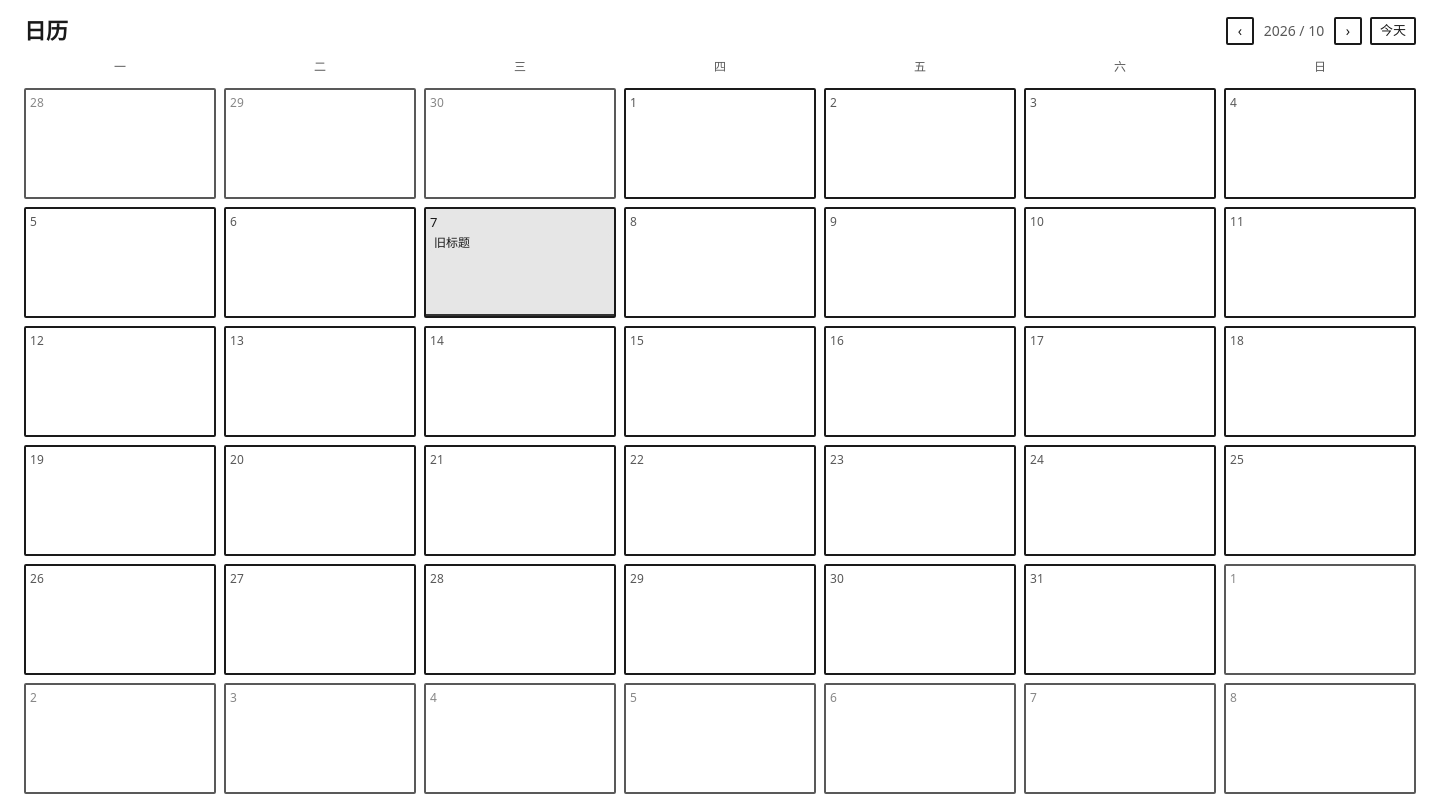
T97-01 日历页 · 新建 / 编辑 / 删除 › ⑤ 点已有日程开编辑（预填）→ 保存走 update；删除走 remove
Click the button with test id "calendar-chip-ev-seed" at (520, 243), box [430, 234, 610, 252]
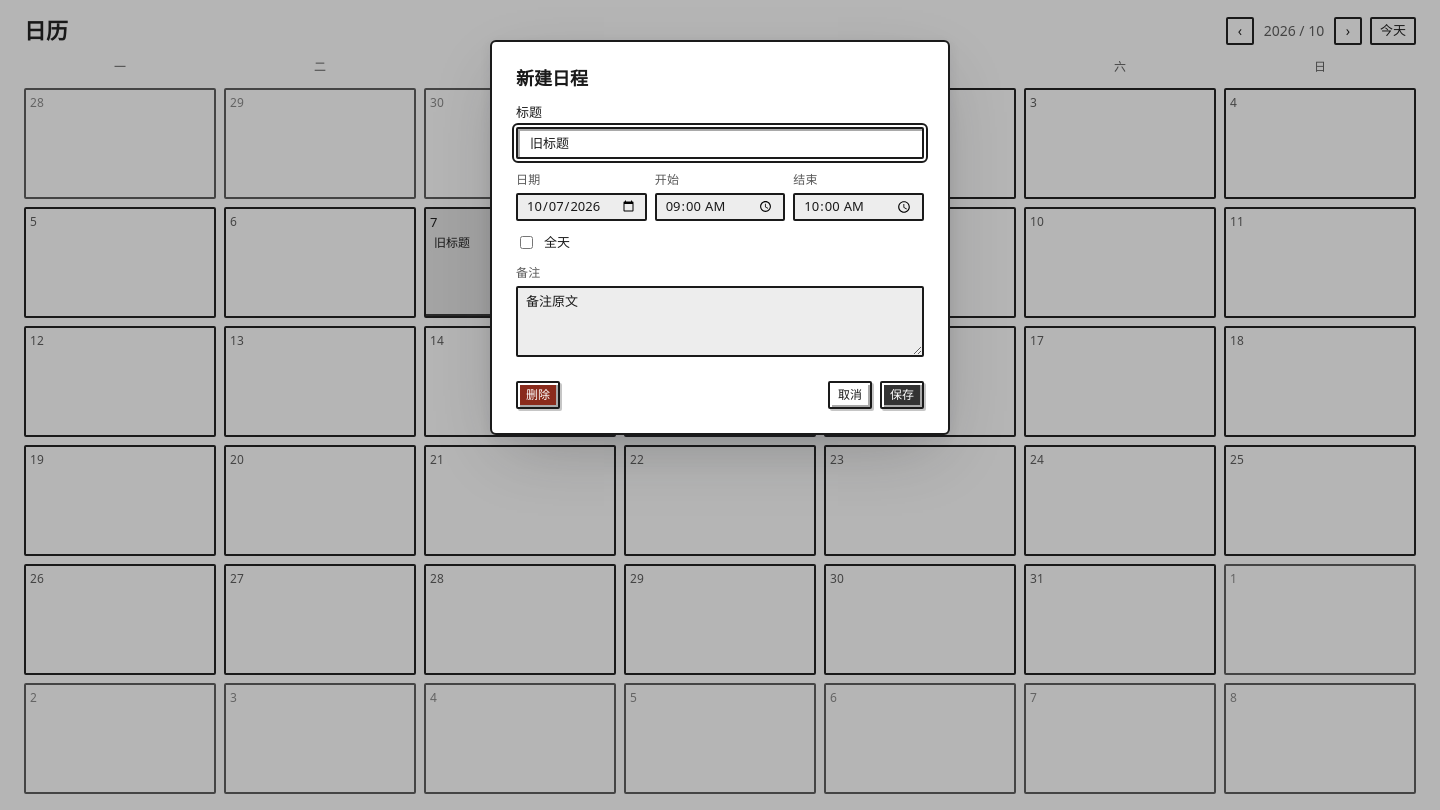
Expected: the field with test id "calendar-event-title" holds "旧标题"
Expected: the text box with test id "calendar-event-note" holds "备注原文", [516, 286, 924, 357]
Replace the text in the field with test id "calendar-event-title" with "新标题" at (720, 143), box [516, 127, 924, 159]
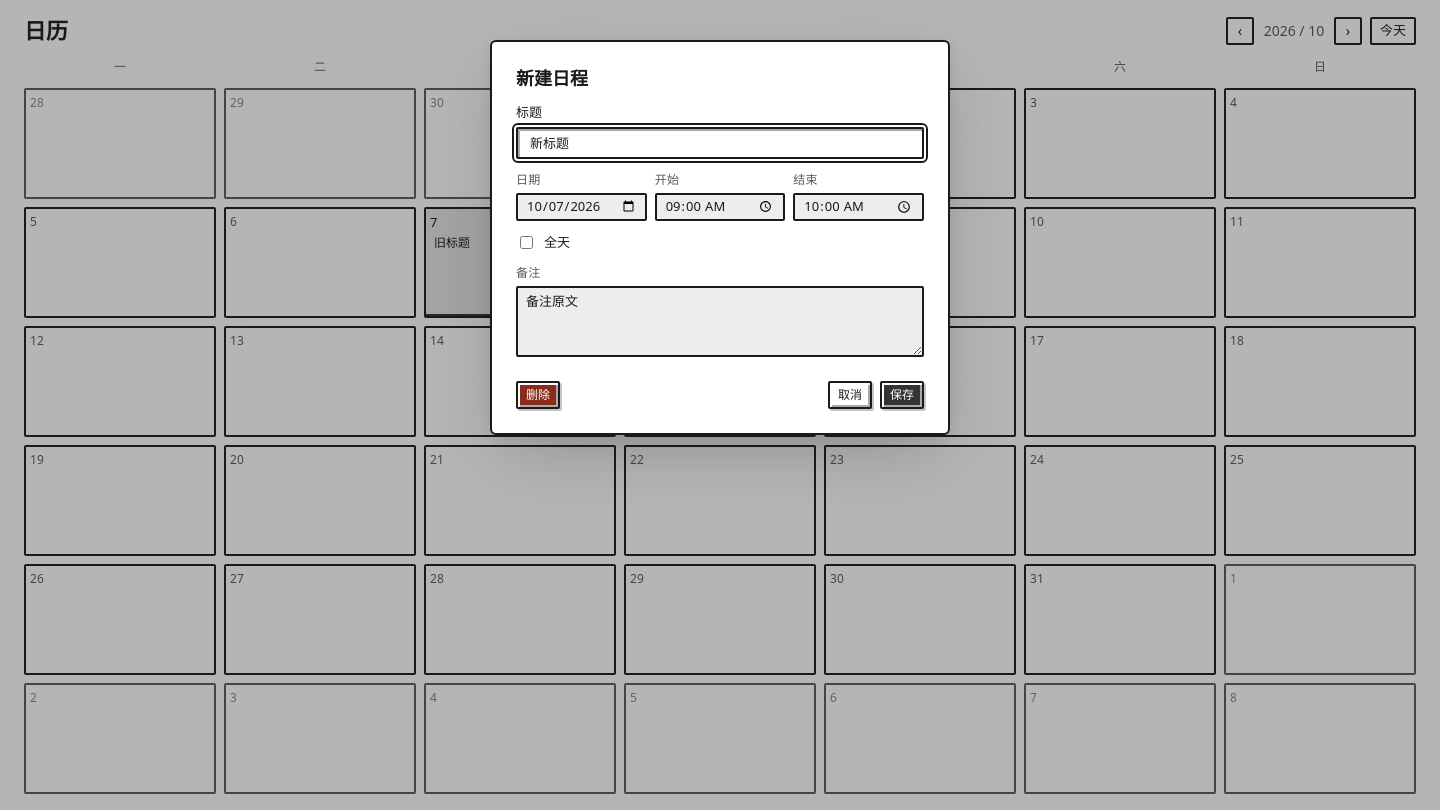
Click the button with test id "calendar-event-save" at (902, 395), box [880, 381, 924, 409]
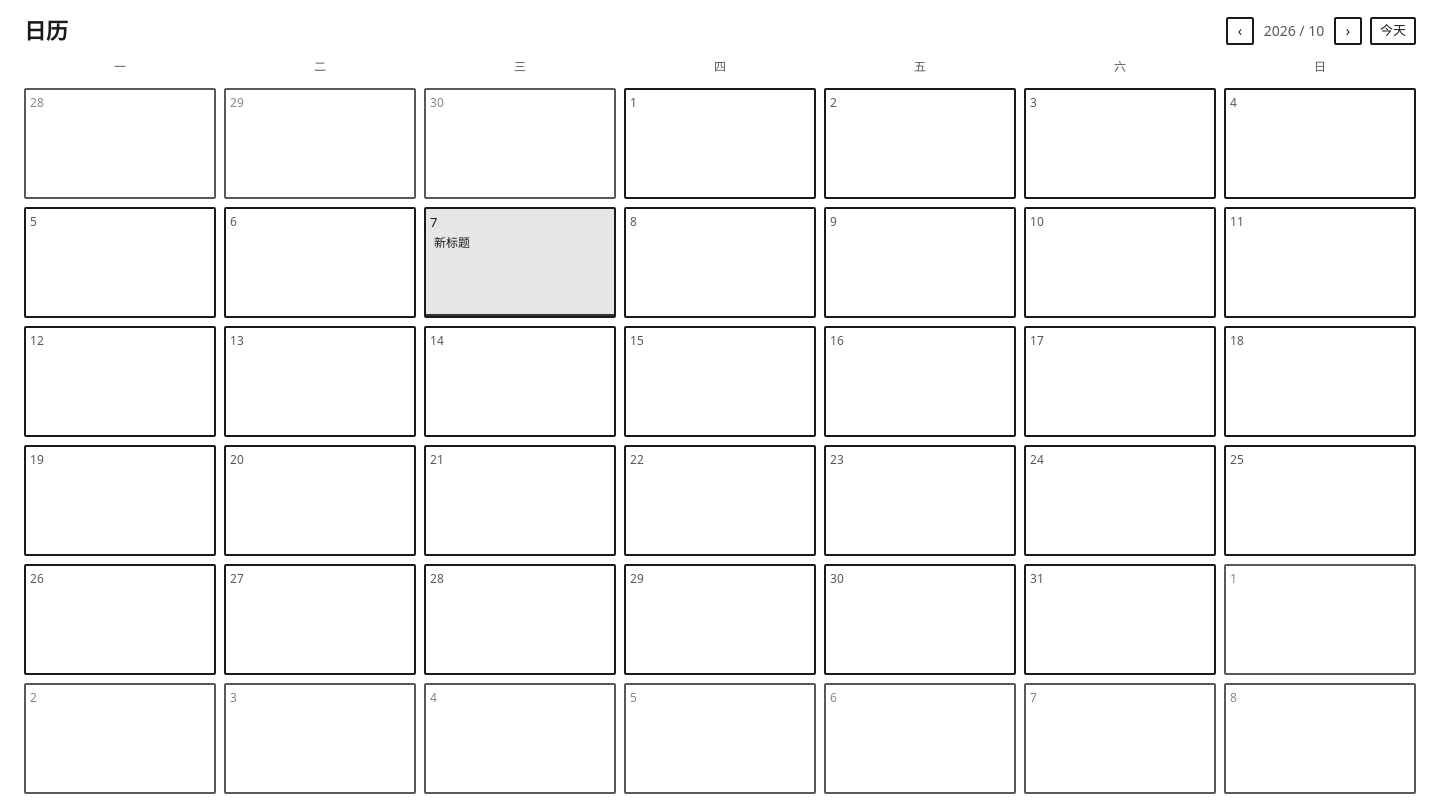
Expected: the button with test id "calendar-chip-ev-seed" reads "新标题"
#  再开 → 删除
Click the button with test id "calendar-chip-ev-seed" at (520, 243), box [430, 234, 610, 252]
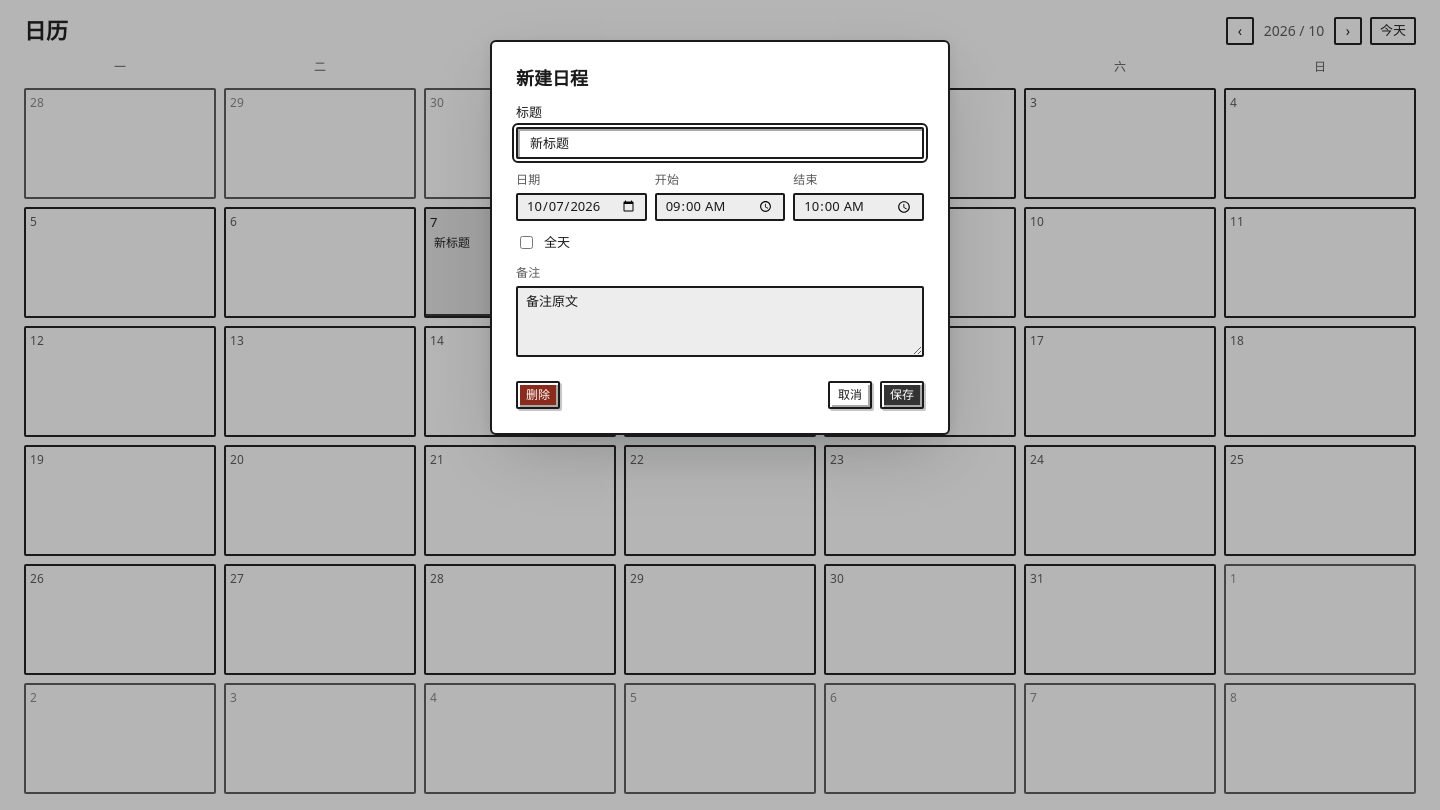
Expected: the field with test id "calendar-event-title" is shown, [516, 127, 924, 159]
Click the button with test id "calendar-event-delete" at (538, 395), box [516, 381, 560, 409]
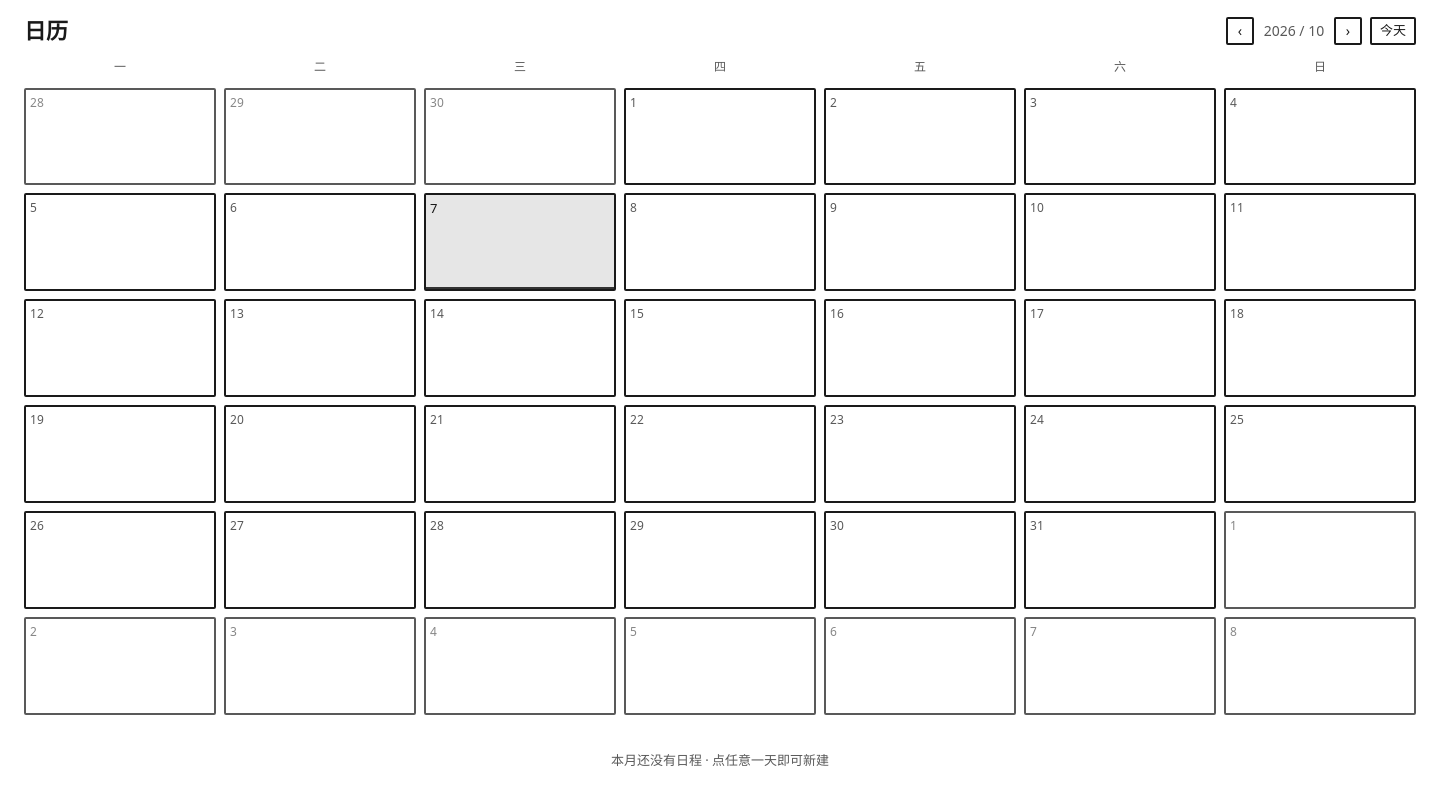
Expected: the button with test id "calendar-chip-ev-seed" is gone
